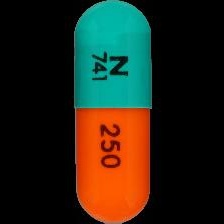42291-626: (0, 0, 224, 224)
